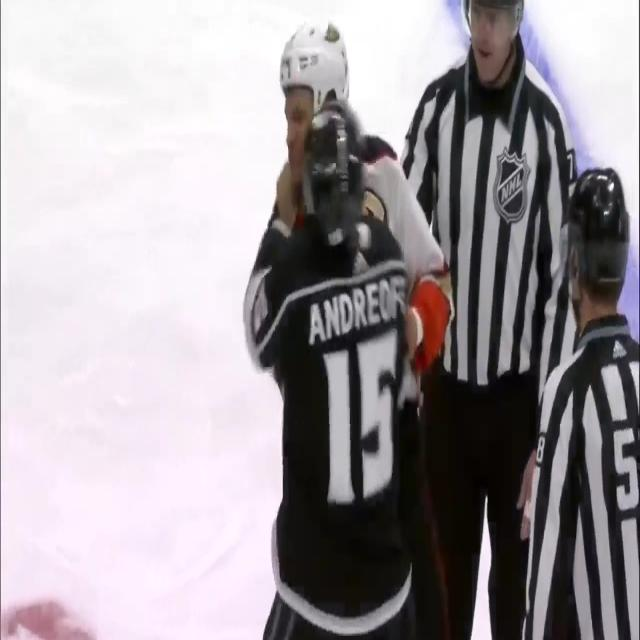fight: (230, 19, 448, 640)
